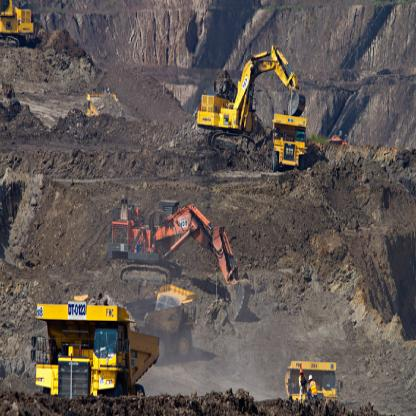dump_truck: (27, 283, 169, 406), (122, 274, 200, 368), (278, 341, 348, 415), (268, 109, 311, 176)
excavator: (101, 174, 262, 328), (194, 38, 308, 162)
person: (292, 361, 309, 413), (306, 368, 320, 406)
